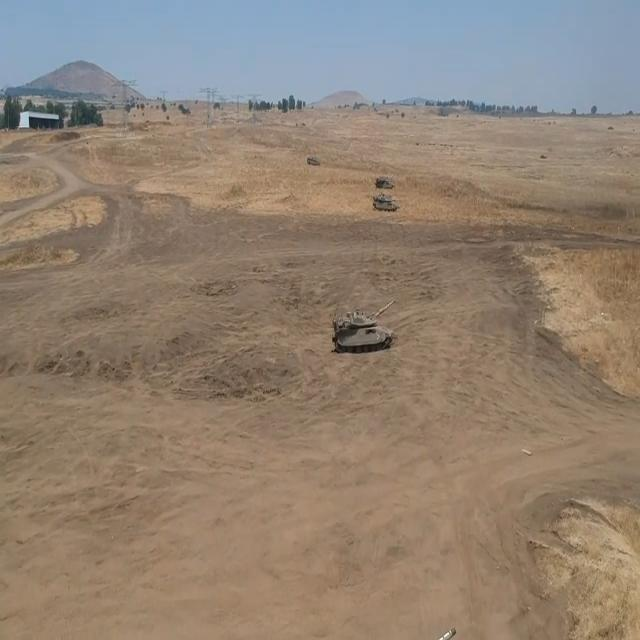tank: (330, 293, 402, 353), (366, 189, 402, 223), (302, 151, 324, 172), (374, 170, 394, 185)
